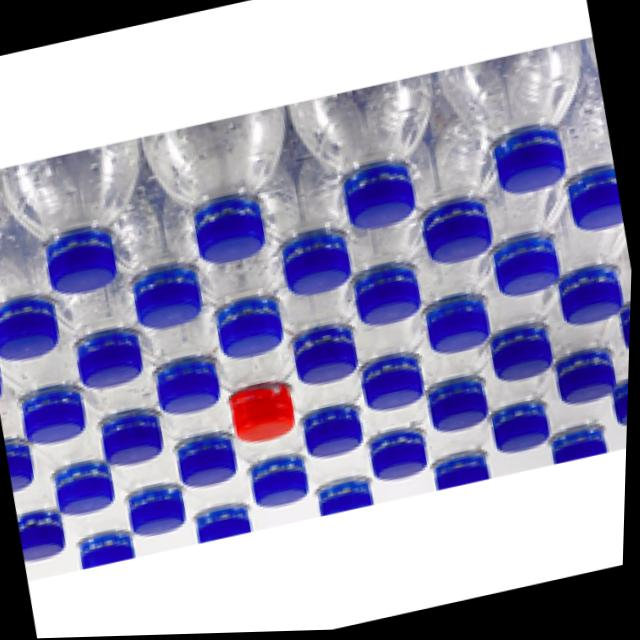plastic_water_bottles: (303, 80, 442, 243), (152, 117, 284, 278), (7, 154, 134, 306), (451, 72, 580, 207), (465, 237, 580, 316), (212, 374, 314, 463)
